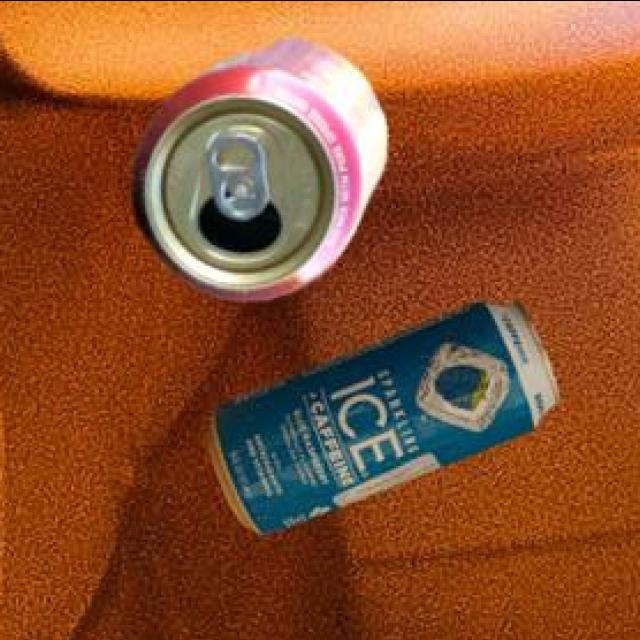logam: (211, 298, 563, 531), (137, 36, 388, 296)
